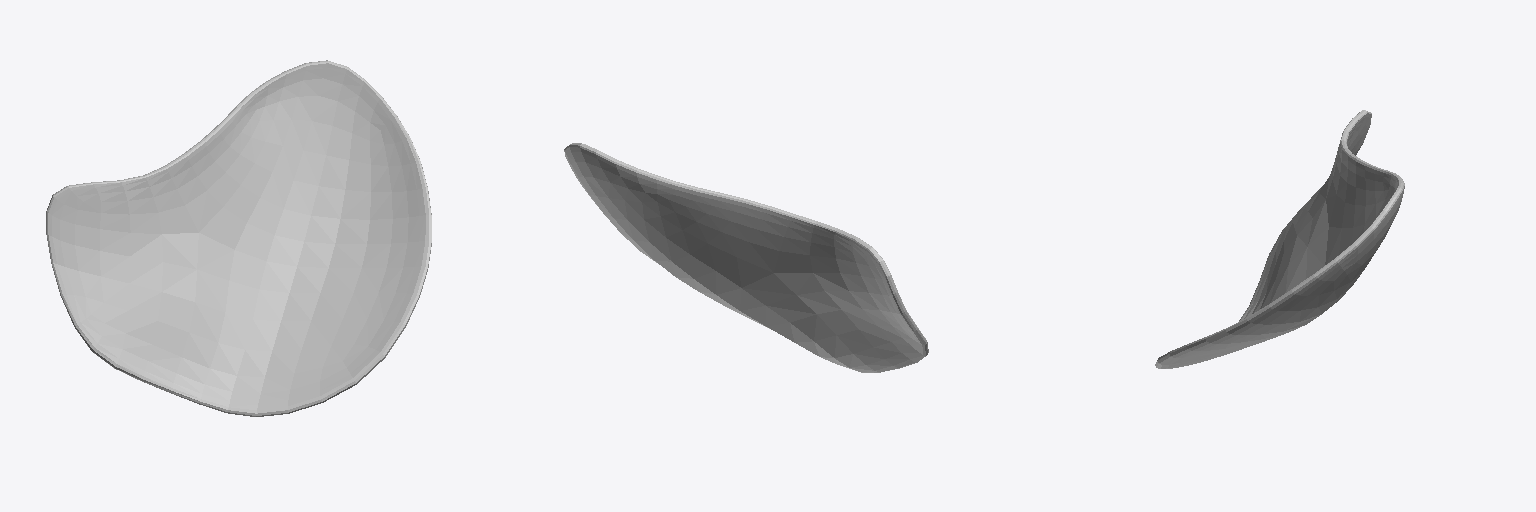
File: Connective.bursa.Omentalis.031.obj
3 renders of one model, left to right at view 1: azimuth 30°, elevation 25°; view 2: azimuth 150°, elevation 25°; view 3: azimuth 270°, elevation 25°, orthographic.
Visible parts, largest first — view 1: Connective:bursa:Omentalis.031_bursa.030; view 2: Connective:bursa:Omentalis.031_bursa.030; view 3: Connective:bursa:Omentalis.031_bursa.030.
Boxes of the visible parts, box(x1,y1,x2,y2) form: Connective:bursa:Omentalis.031_bursa.030: box(46, 60, 431, 416); Connective:bursa:Omentalis.031_bursa.030: box(564, 143, 928, 372); Connective:bursa:Omentalis.031_bursa.030: box(1155, 110, 1404, 368).
Size of the model in its own units: 0.569 by 0.3854 by 0.3573.